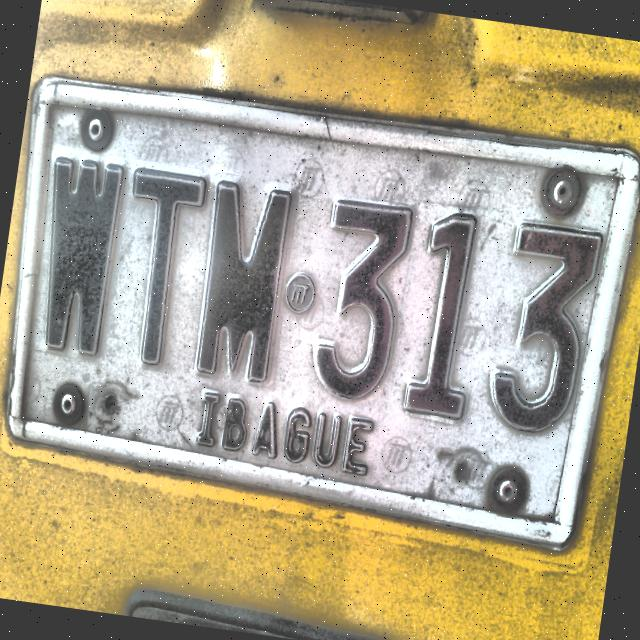1: (398, 201, 502, 430)
3: (482, 214, 607, 450), (304, 190, 422, 410)
M: (187, 176, 300, 392)
T: (106, 160, 212, 374)
W: (22, 149, 134, 366)
